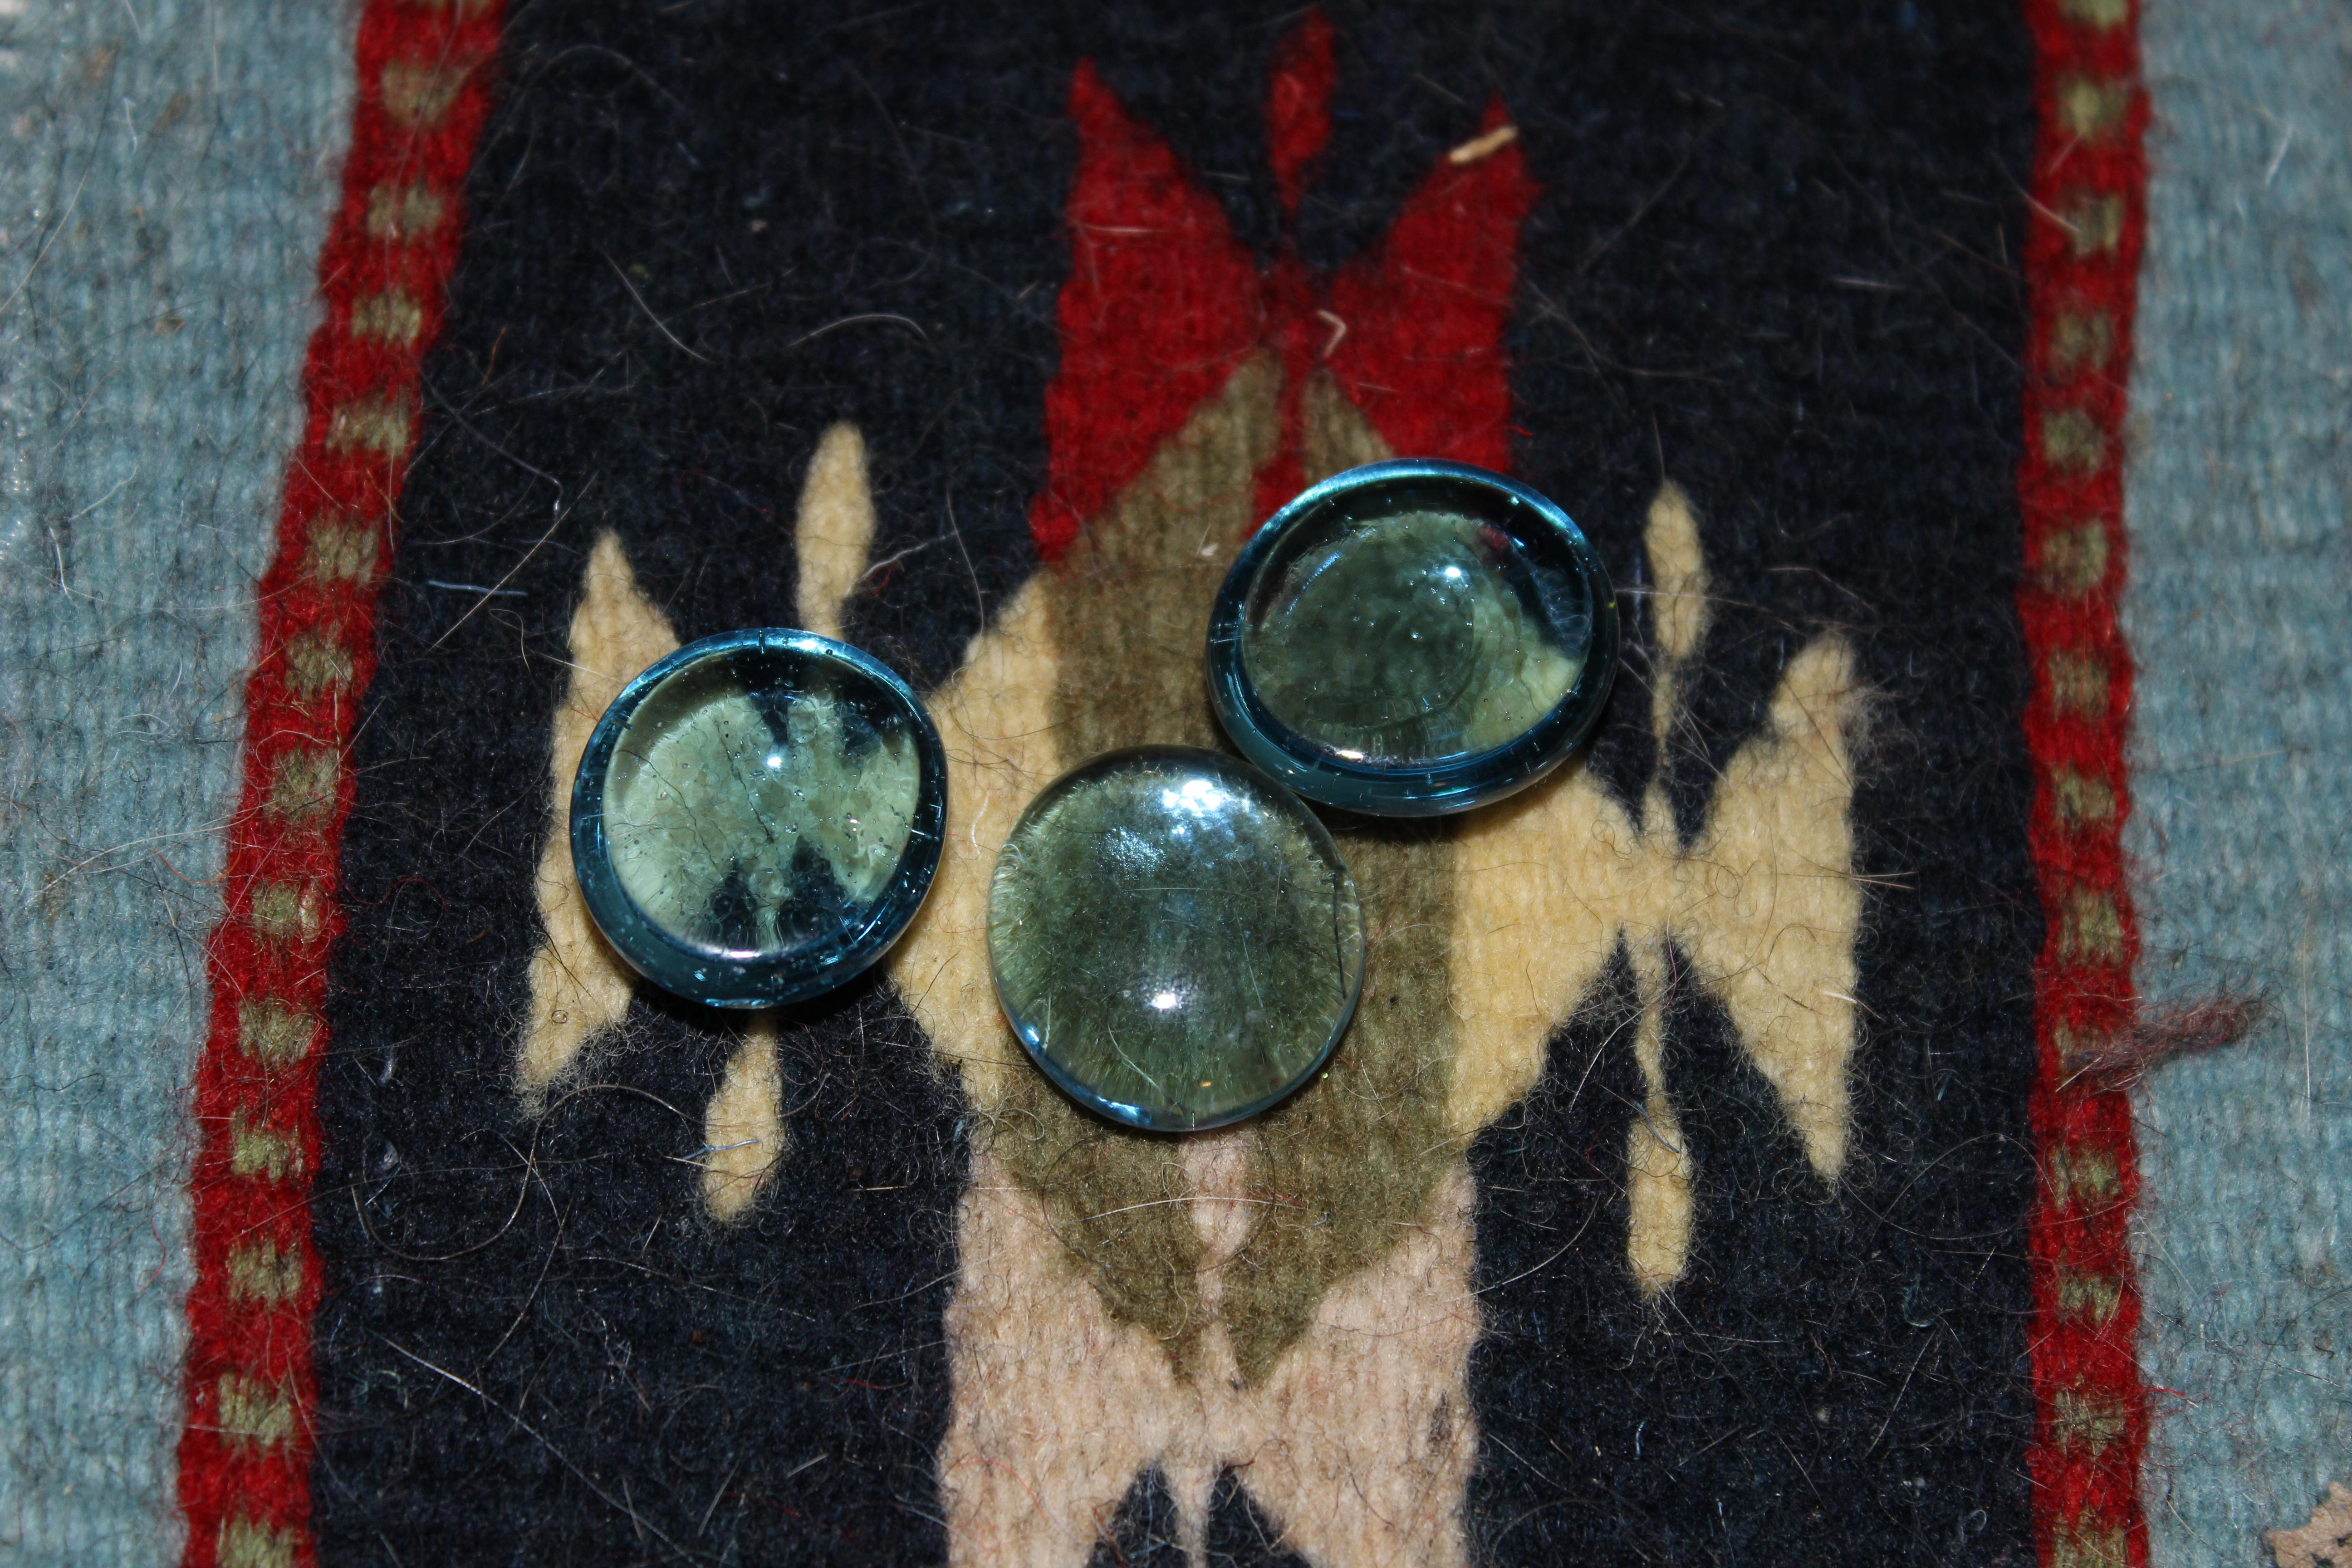glassBead: (534, 591, 985, 1040), (954, 718, 1398, 1171), (1179, 439, 1650, 861)
